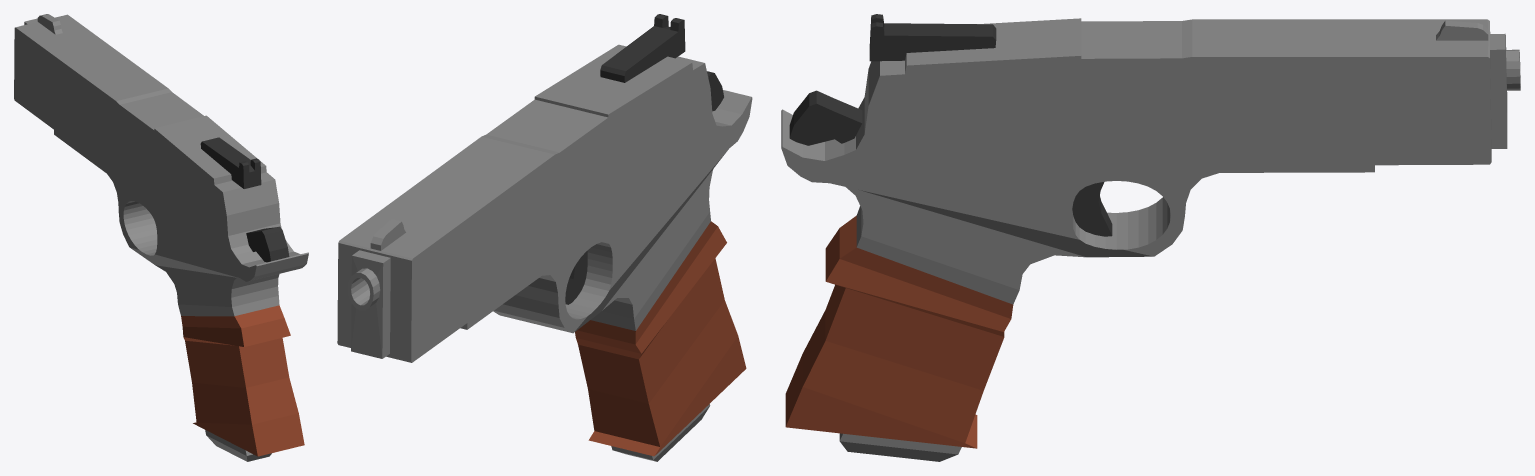
Rendered from Gun.fbx.
The picture shows the model from 3 angles, left to right: view 1: azimuth 30°, elevation 25°; view 2: azimuth 150°, elevation 25°; view 3: azimuth 270°, elevation 25°; orthographic projection. The views are drawn at different scales.
Visible parts, largest first — view 1: Cube, Cube.003, Cube.002; view 2: Cube, Cube.003, Cube.001; view 3: Cube, Cube.003, Cube.002, Cube.001.
Part boxes in pixels (x1=…): Cube: x1=14, y1=14, x2=308, y2=461; Cube.003: x1=200, y1=137, x2=261, y2=188; Cube.002: x1=246, y1=226, x2=289, y2=262; Cube: x1=337, y1=44, x2=752, y2=461; Cube.003: x1=600, y1=14, x2=685, y2=82; Cube.001: x1=565, y1=250, x2=587, y2=304; Cube: x1=781, y1=18, x2=1520, y2=461; Cube.003: x1=869, y1=14, x2=996, y2=61; Cube.002: x1=789, y1=90, x2=862, y2=145; Cube.001: x1=1072, y1=181, x2=1112, y2=236.
Bounding box in the file's own units: 59.31 × 322 × 495.
